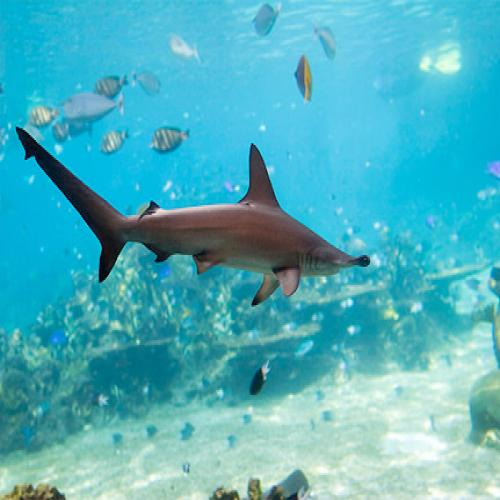shark-endangered: (16, 126, 370, 307)
